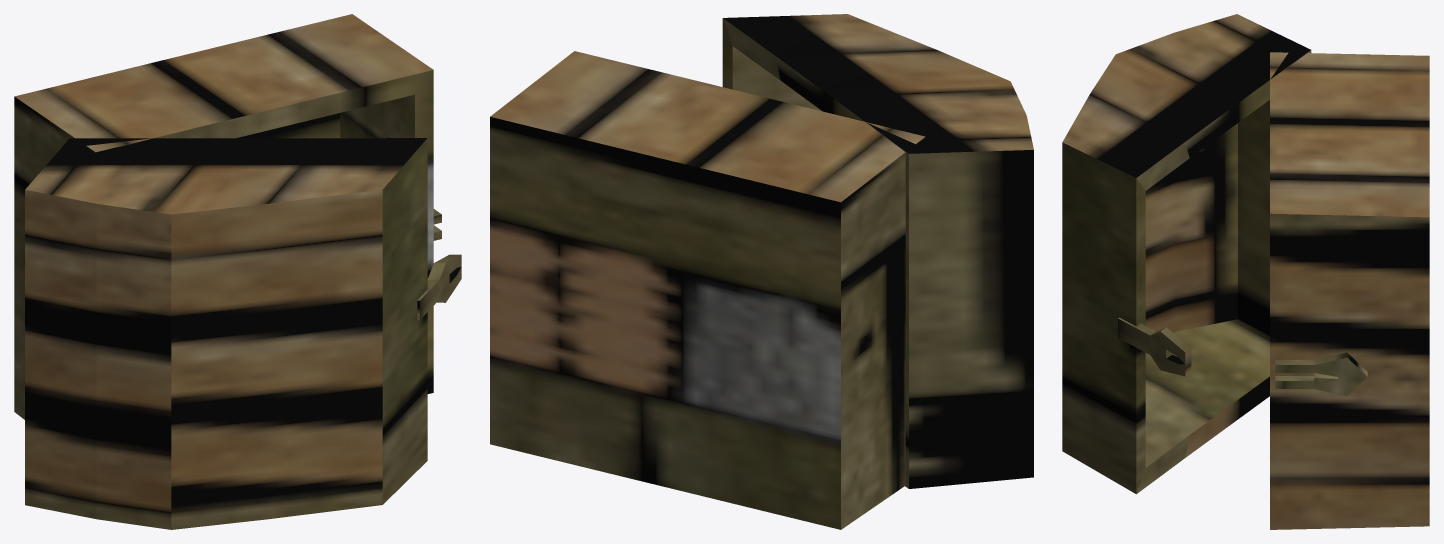
File: chest.obj
3 views of the same model, side by side, from view 1: azimuth 30°, elevation 25°; view 2: azimuth 150°, elevation 25°; view 3: azimuth 270°, elevation 25° (orthographic). The views are drawn at different scales.
Visible parts, largest first — view 1: chest; view 2: chest; view 3: chest.
Part boxes in pixels (x1=…): chest: x1=14, y1=14, x2=461, y2=529; chest: x1=490, y1=14, x2=1033, y2=529; chest: x1=1062, y1=14, x2=1429, y2=529.
Size of the model in its own units: 0.55 by 0.38 by 0.4.
Materials: 1 (1 with a texture image).
